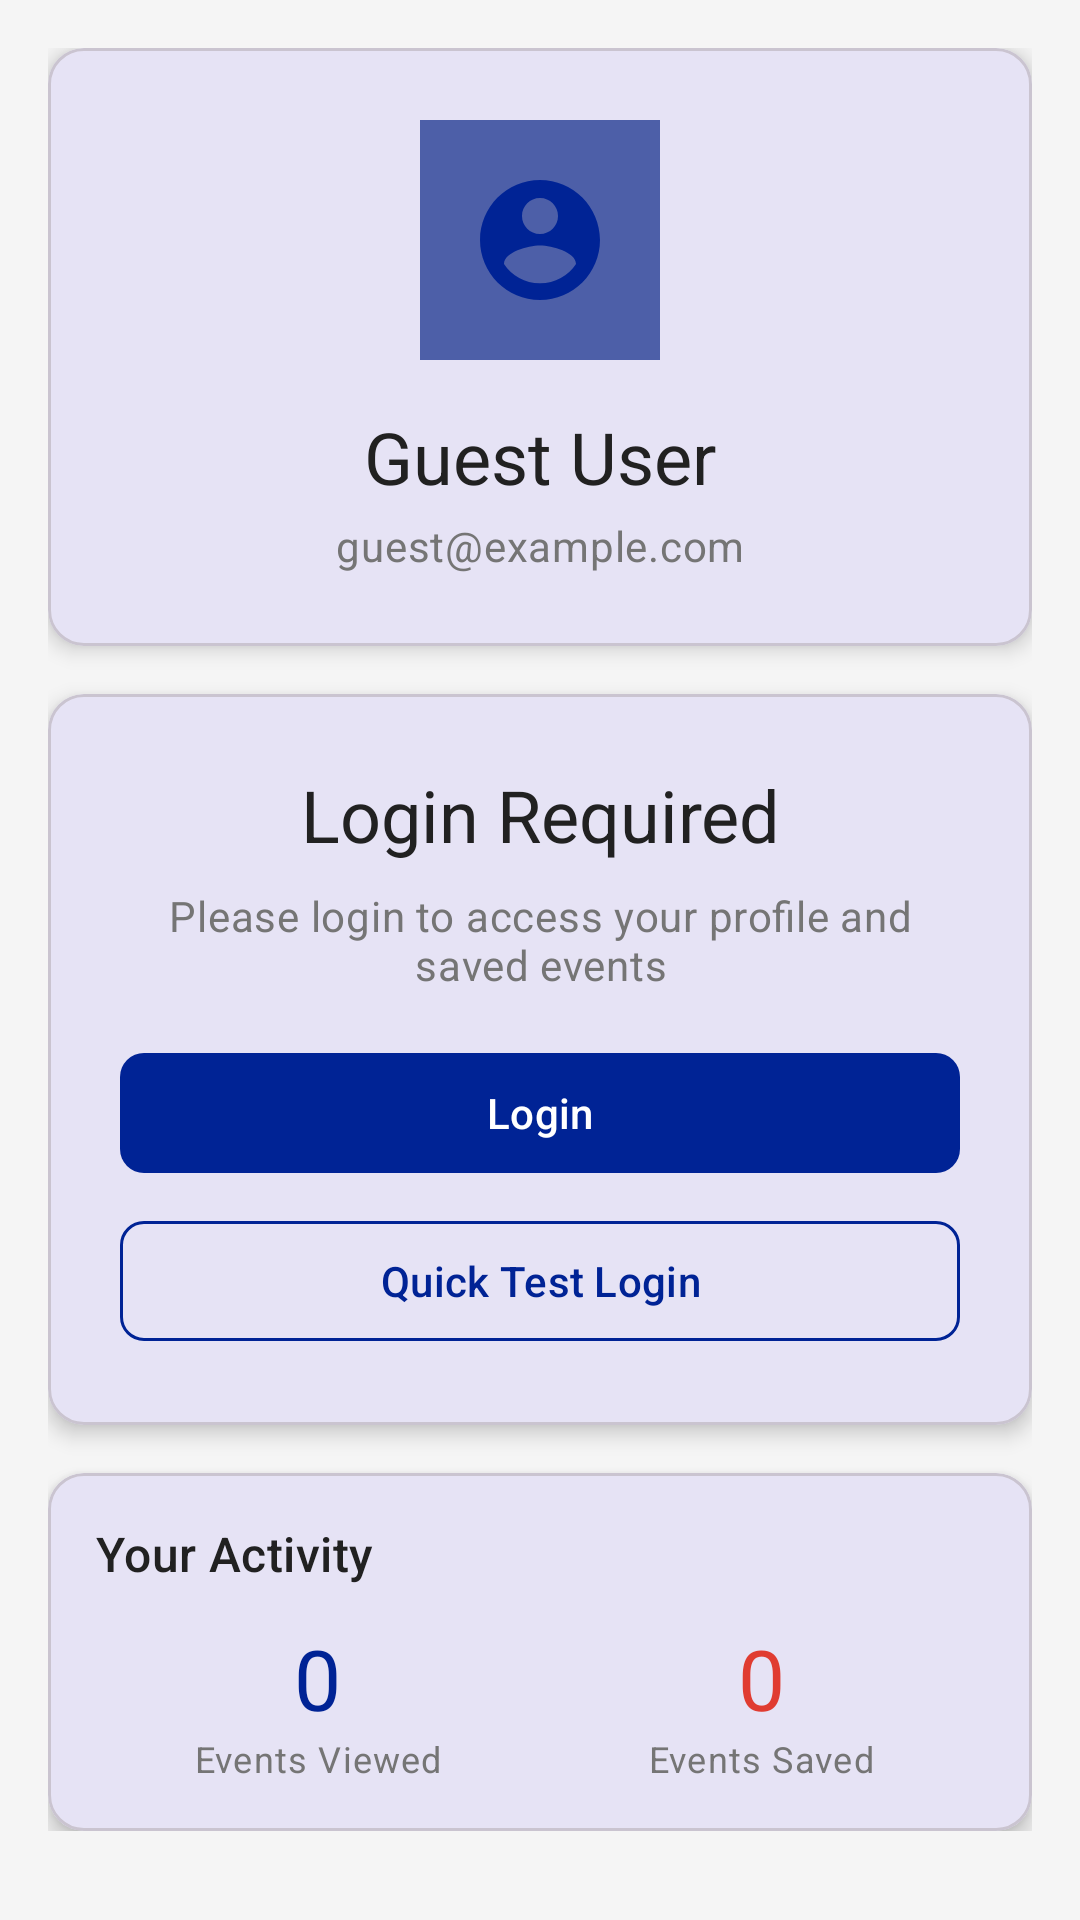

Icons on this 1080px x 1920px Android screen, each with its box as (x1, y1, x2, y2):
profile: (420, 120, 660, 360)
